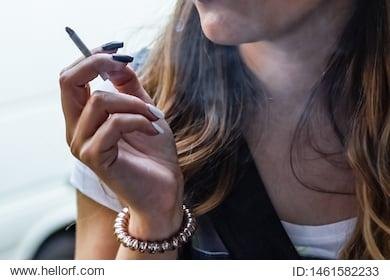Cigarette: (64, 27, 109, 82)
